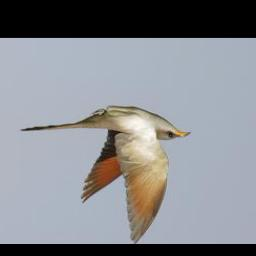Cuckoo: (20, 108, 190, 244)
